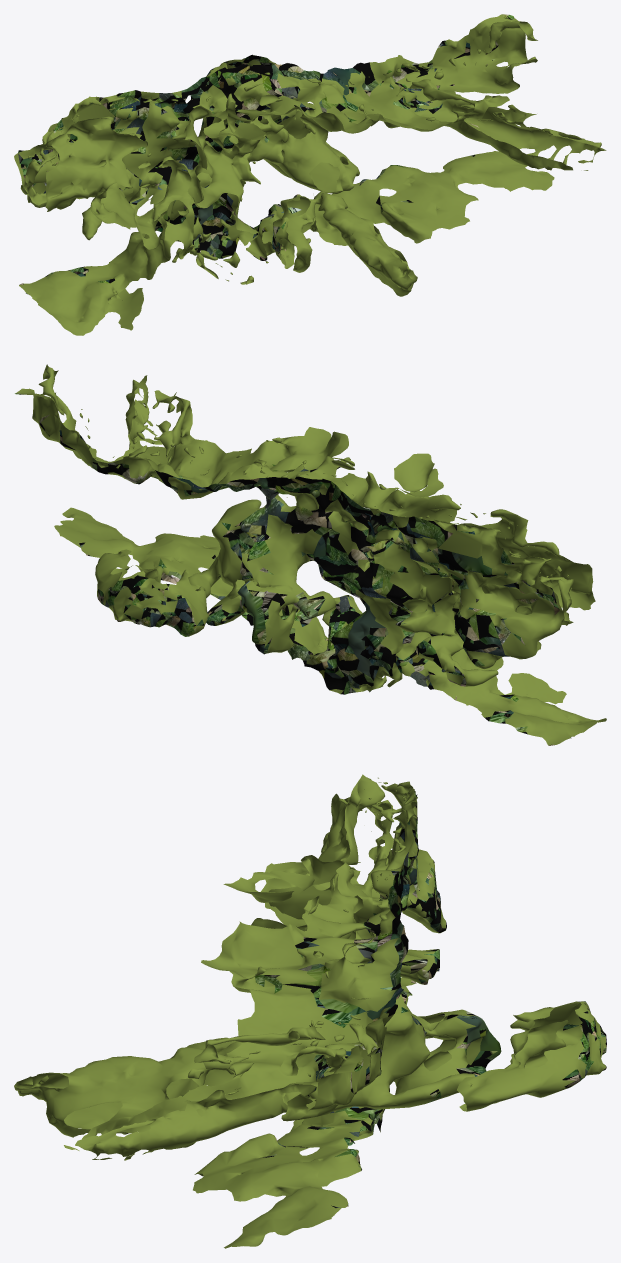
File: Hamel_n_bay_lowpoly.obj
The picture shows the model from 3 angles, top to bottom: view 1: azimuth 30°, elevation 25°; view 2: azimuth 150°, elevation 25°; view 3: azimuth 270°, elevation 25°; orthographic projection. The views are drawn at different scales.
Size of the model in its own units: 8.16 by 3.25 by 6.24.
